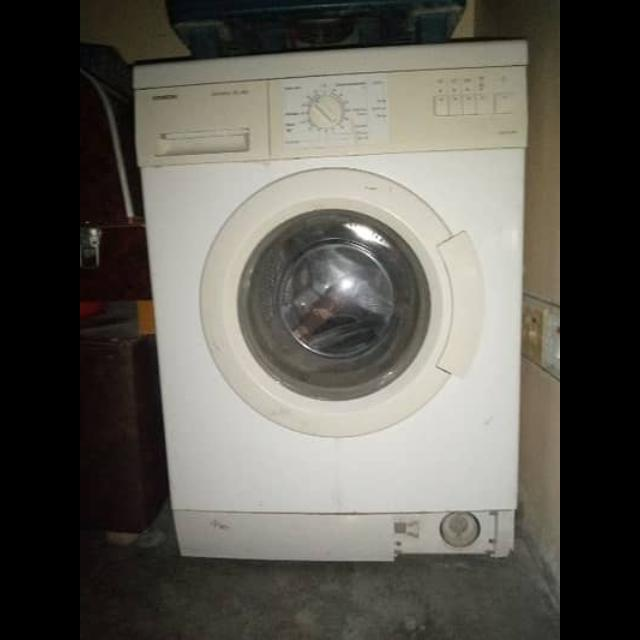Washing-Machine: (134, 38, 526, 560)
